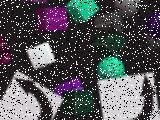Left: (0, 70, 64, 120), (98, 72, 160, 120)
